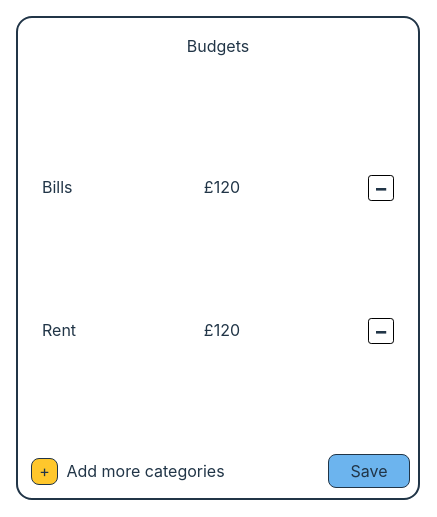
Test: Integration test for Category table › Add more categories launches an add box
Click the element named "add-more-section" at (128, 471), box 31,458 -> 225,485
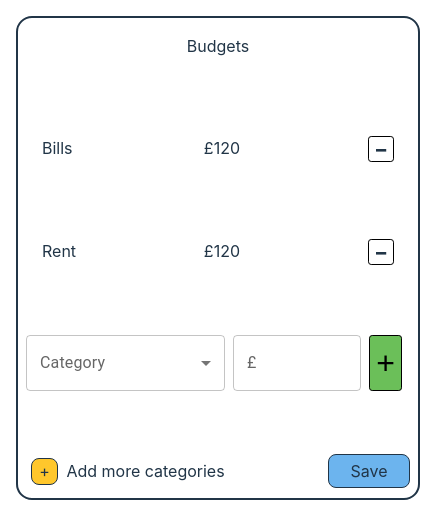
Expected: the element named "add-more-input-box" is shown, 18,327 -> 418,399
Expected: the button named "submit-input" is shown, 369,335 -> 402,391
